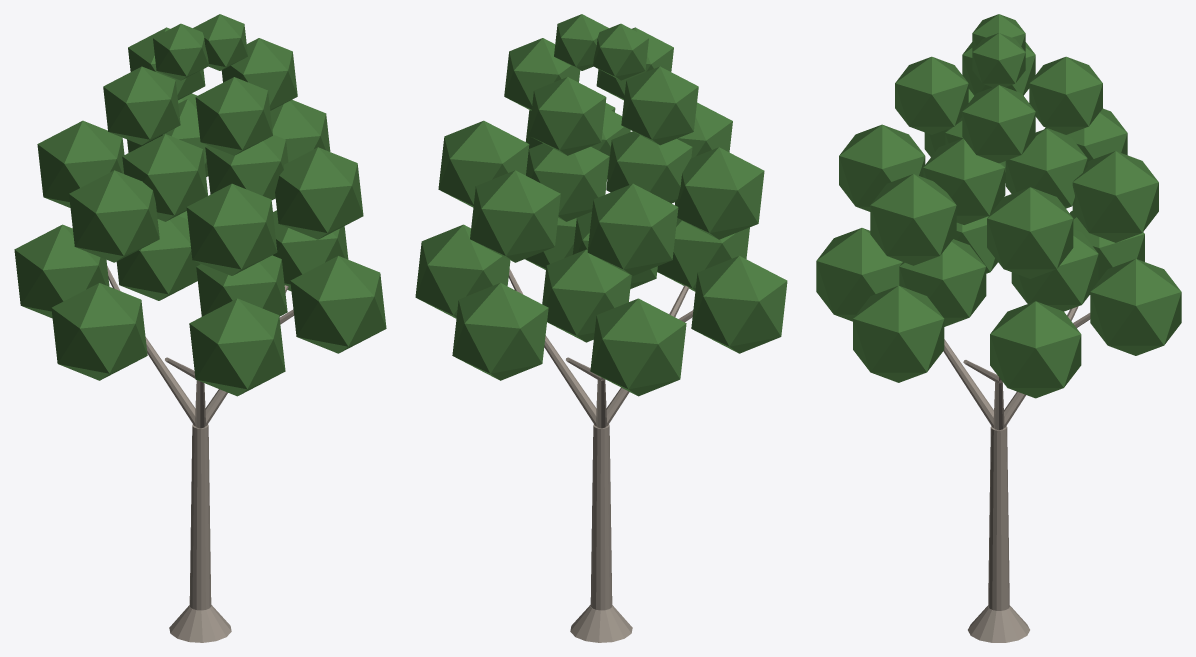
File: street_tree.glb
The picture shows the model from 3 angles, left to right: view 1: azimuth 30°, elevation 25°; view 2: azimuth 150°, elevation 25°; view 3: azimuth 270°, elevation 25°; orthographic projection.
Parts seen in each view (by area): view 1: StreetTree_Leaf, StreetTree_Bark; view 2: StreetTree_Leaf, StreetTree_Bark; view 3: StreetTree_Leaf, StreetTree_Bark.
Boxes of the visible parts, x1,y1,x2,y2 form: StreetTree_Leaf: (14, 14, 386, 396); StreetTree_Bark: (107, 266, 293, 642); StreetTree_Leaf: (415, 14, 787, 396); StreetTree_Bark: (508, 269, 693, 642); StreetTree_Leaf: (816, 14, 1181, 398); StreetTree_Bark: (943, 306, 1090, 642).
Bounding box in the file's own units: 0.4958 × 0.897 × 0.4895.
